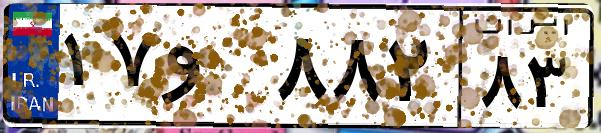1: (57, 26, 110, 100)
2: (385, 28, 445, 110)
3: (525, 38, 570, 115)
7: (110, 28, 158, 98)
8: (270, 28, 330, 110), (330, 28, 385, 110), (475, 38, 525, 113)
و: (158, 20, 270, 120)
